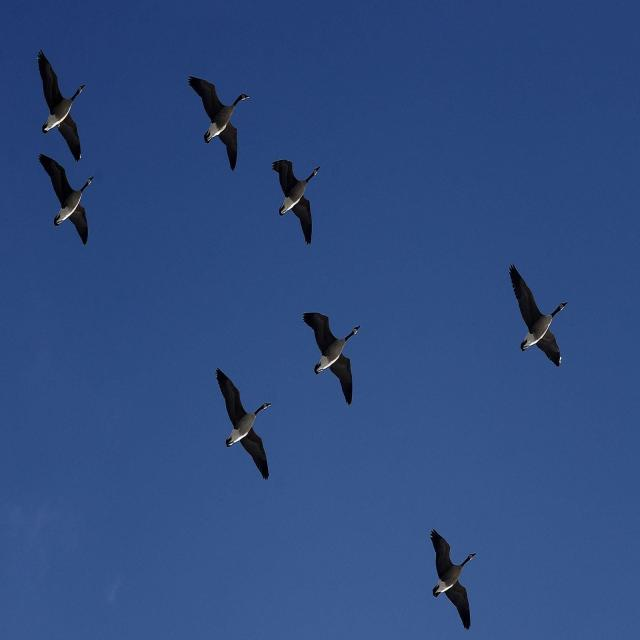bird: (216, 370, 277, 477), (187, 75, 252, 174), (511, 266, 574, 364), (38, 52, 92, 162), (299, 312, 362, 406), (38, 159, 98, 244), (270, 160, 325, 246), (430, 532, 479, 628)
